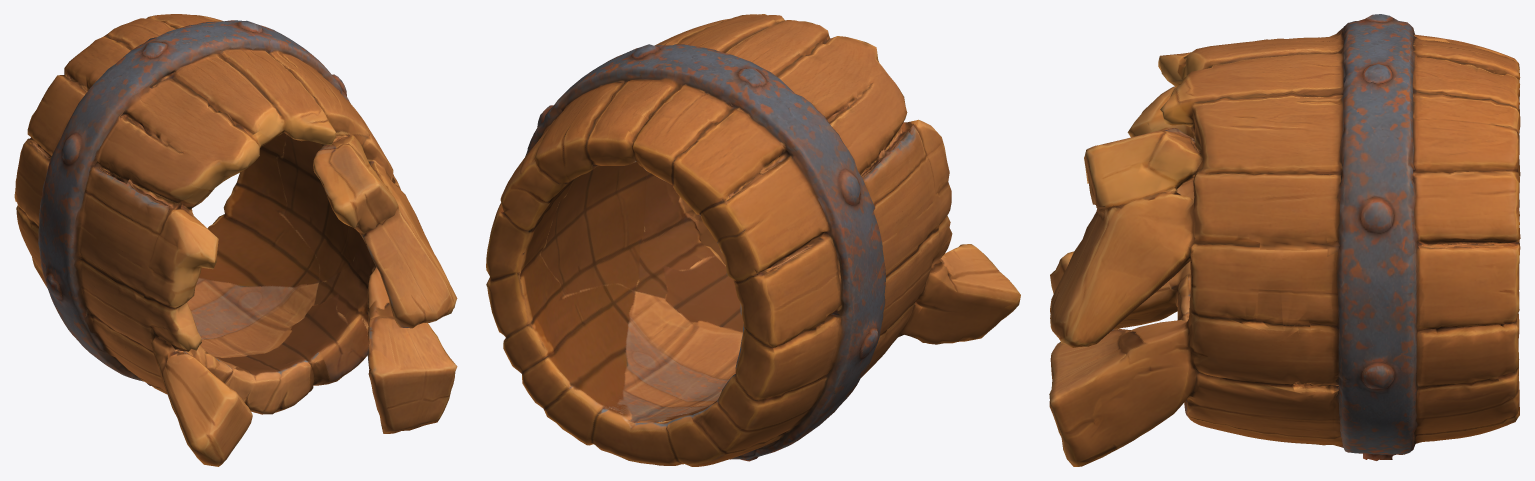
File: Debris_Barrel.fbx
3 renders of one model, left to right at view 1: azimuth 30°, elevation 25°; view 2: azimuth 150°, elevation 25°; view 3: azimuth 270°, elevation 25°, orthographic. The views are drawn at different scales.
Parts seen in each view (by area): view 1: texture_mapping; view 2: texture_mapping; view 3: texture_mapping.
Part boxes in pixels (left/top/right/bottom): texture_mapping: left=14, top=14, right=457, bottom=466; texture_mapping: left=486, top=14, right=1020, bottom=466; texture_mapping: left=1049, top=14, right=1520, bottom=466.
Size of the model in its own units: 0.8791 by 1 by 0.9355.
Materials: 1 (1 with a texture image).
